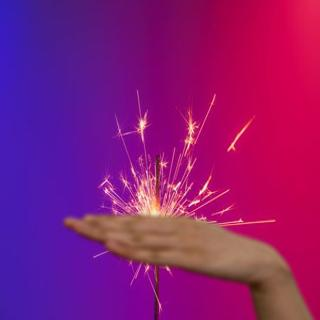WAIT: (58, 201, 282, 287)
